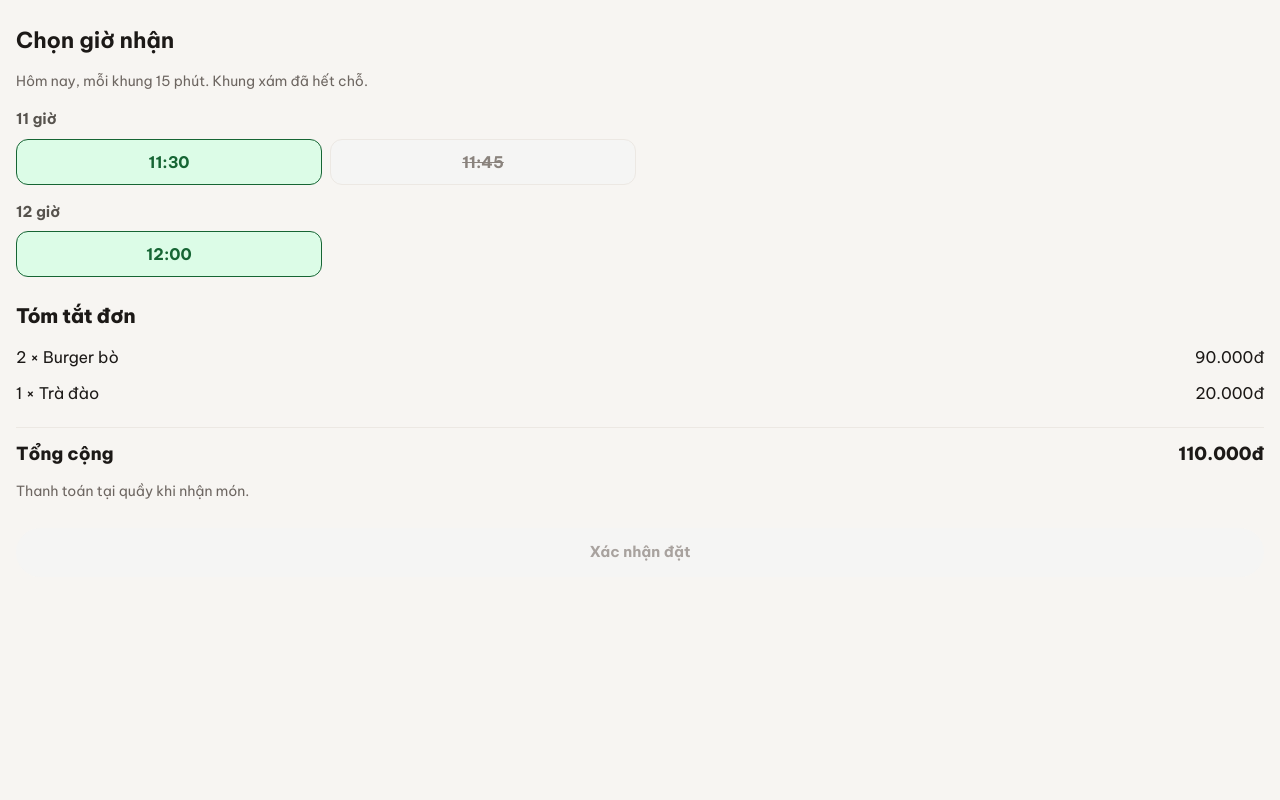
Test: CheckoutPage › khung vừa hết chỗ: ở lại, bỏ chọn và tải lại danh sách khung (E8)
What coordinates should you click on to do the following:
click the button "11:30"
I would click on:
 (169, 162)
Its box is left=16, top=138, right=322, bottom=184.
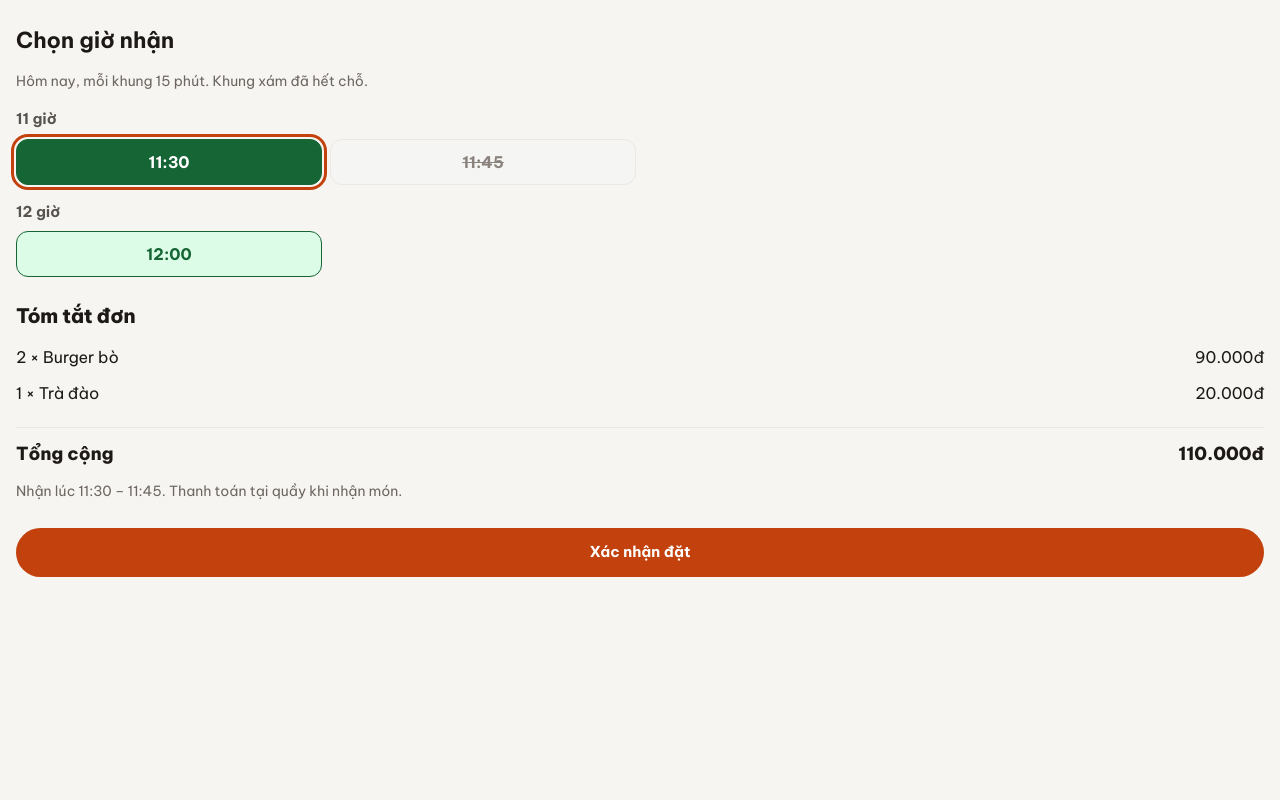
What coordinates should you click on to do the following:
click the button "Xác nhận đặt"
I would click on:
 (640, 552)
Its box is left=16, top=528, right=1264, bottom=576.
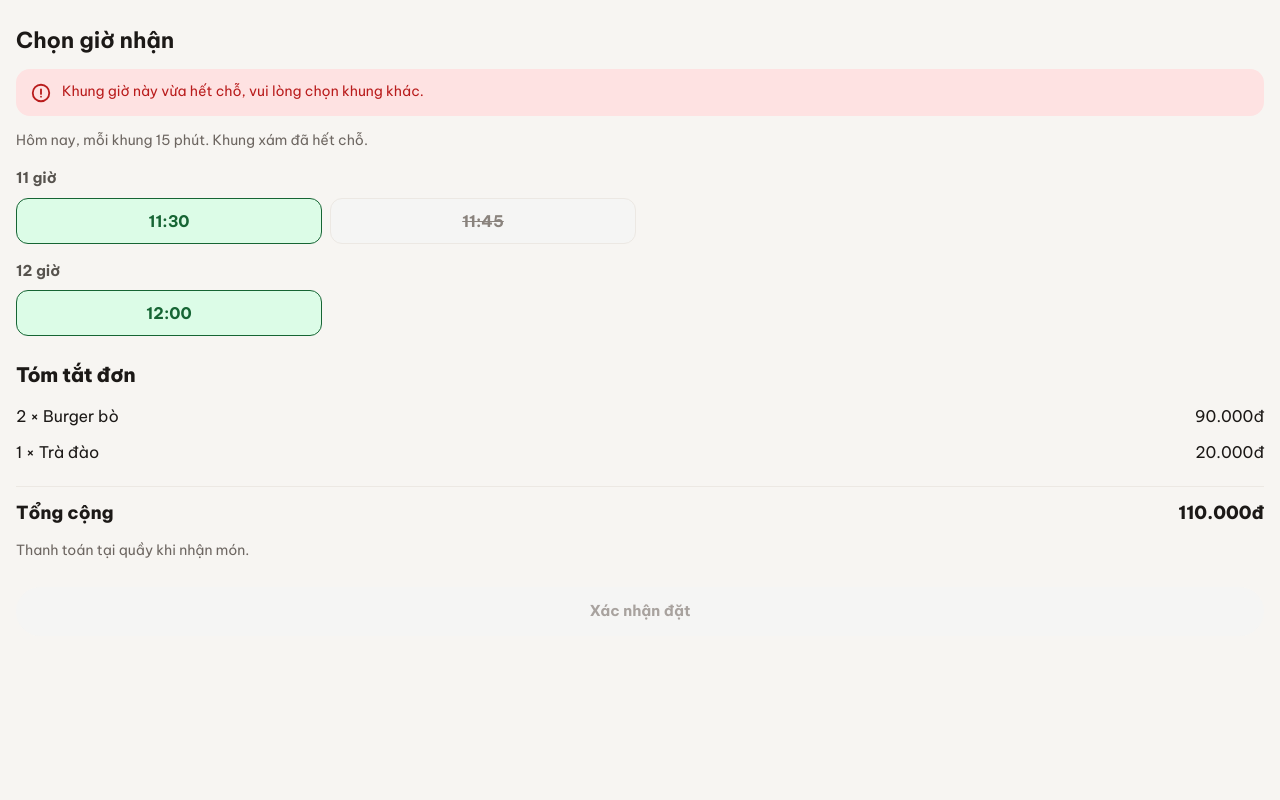
Result: the message shows "vừa hết chỗ" at left=62, top=82, right=424, bottom=100
Result: the button "Xác nhận đặt" is disabled at left=16, top=587, right=1264, bottom=636
